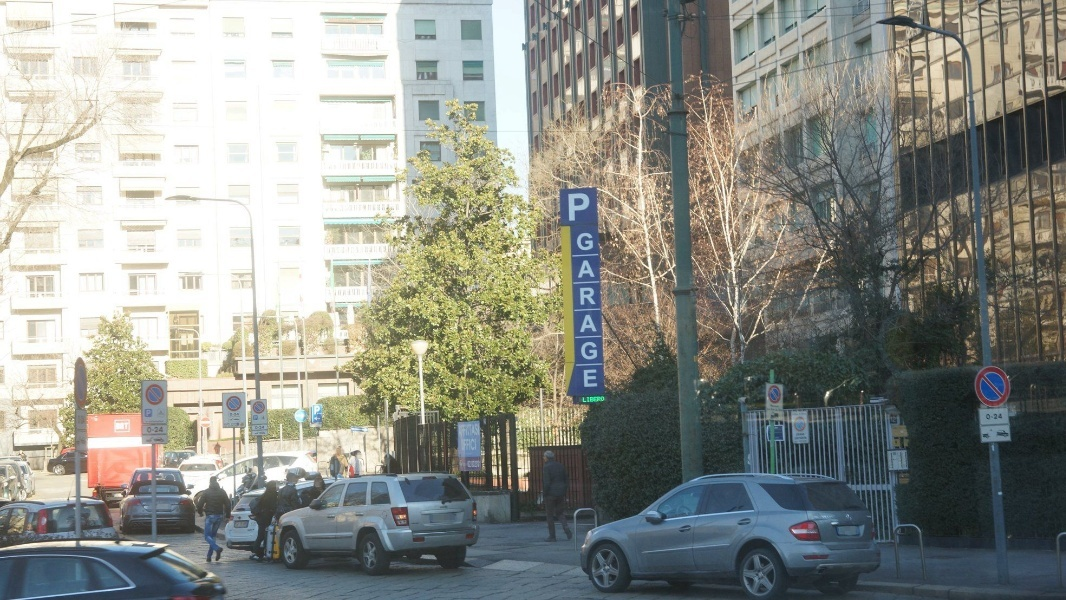text: (577, 231, 592, 389), (593, 231, 600, 389), (577, 192, 591, 224), (568, 192, 576, 224), (465, 439, 480, 452), (769, 404, 784, 412), (116, 423, 128, 431), (465, 424, 472, 437), (473, 423, 480, 436), (593, 396, 605, 403), (468, 460, 480, 467), (146, 410, 160, 416), (147, 427, 160, 433), (225, 423, 240, 428), (231, 413, 240, 421), (582, 396, 592, 403), (801, 433, 808, 443), (459, 424, 464, 437), (993, 414, 1003, 420), (794, 433, 800, 443), (81, 416, 86, 425), (315, 406, 320, 415), (890, 416, 896, 423), (461, 439, 464, 452), (259, 426, 272, 429), (986, 414, 992, 420), (154, 427, 160, 433), (793, 413, 800, 416), (801, 413, 808, 416), (78, 416, 80, 425), (161, 427, 164, 433), (152, 429, 160, 431), (481, 460, 483, 467), (258, 427, 272, 428), (254, 416, 256, 420), (257, 416, 258, 420), (257, 426, 258, 429)
